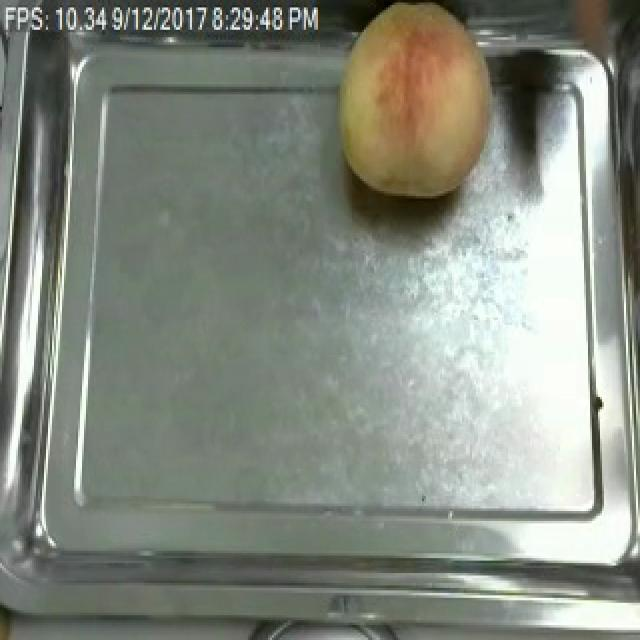Fruit: (326, 0, 504, 206)
